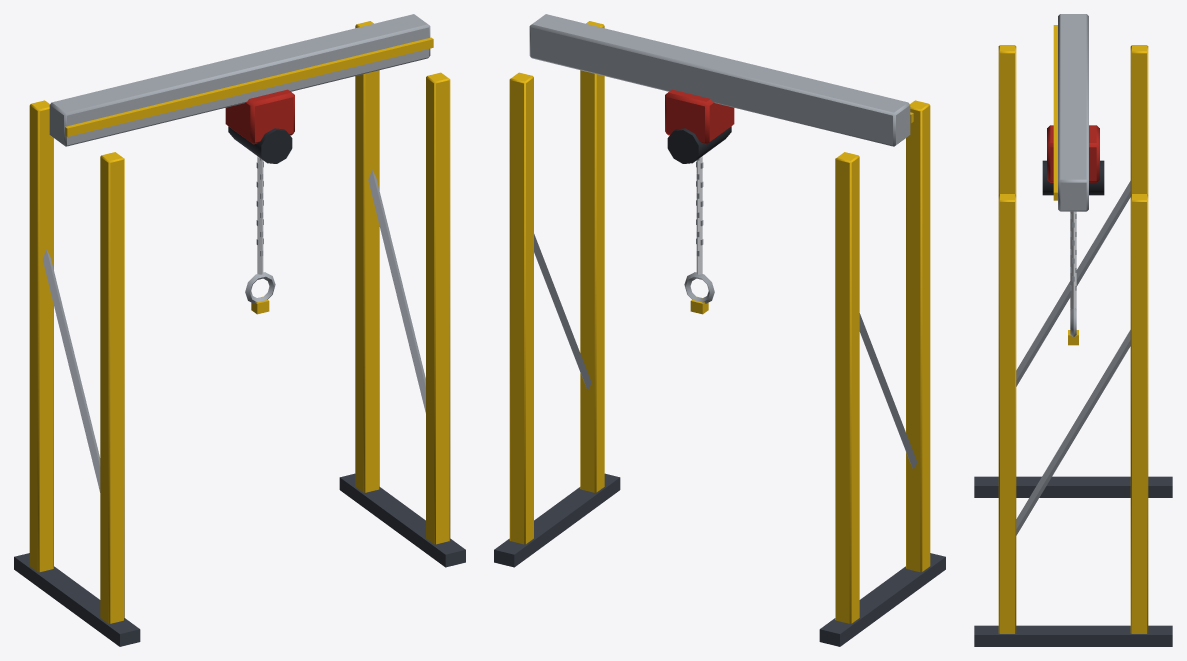
The model's file is engtool_chain_hoist_gantry.glb.
The picture shows the model from 3 angles, left to right: view 1: azimuth 30°, elevation 25°; view 2: azimuth 150°, elevation 25°; view 3: azimuth 270°, elevation 25°; orthographic projection. The views are drawn at different scales.
Visible parts, largest first — view 1: engtool_chain_hoist_gantry; view 2: engtool_chain_hoist_gantry; view 3: engtool_chain_hoist_gantry.
Boxes of the visible parts, x1,y1,x2,y2 form: engtool_chain_hoist_gantry: (14,14,465,646); engtool_chain_hoist_gantry: (494,14,945,646); engtool_chain_hoist_gantry: (974,14,1172,646).
Size of the model in its own units: 1.8 by 2.36 by 0.9.
